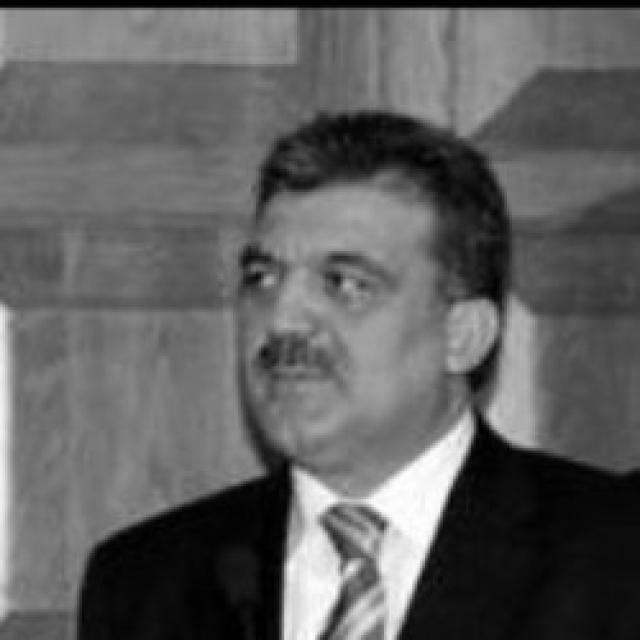real: (230, 112, 476, 474), (245, 255, 405, 309)
